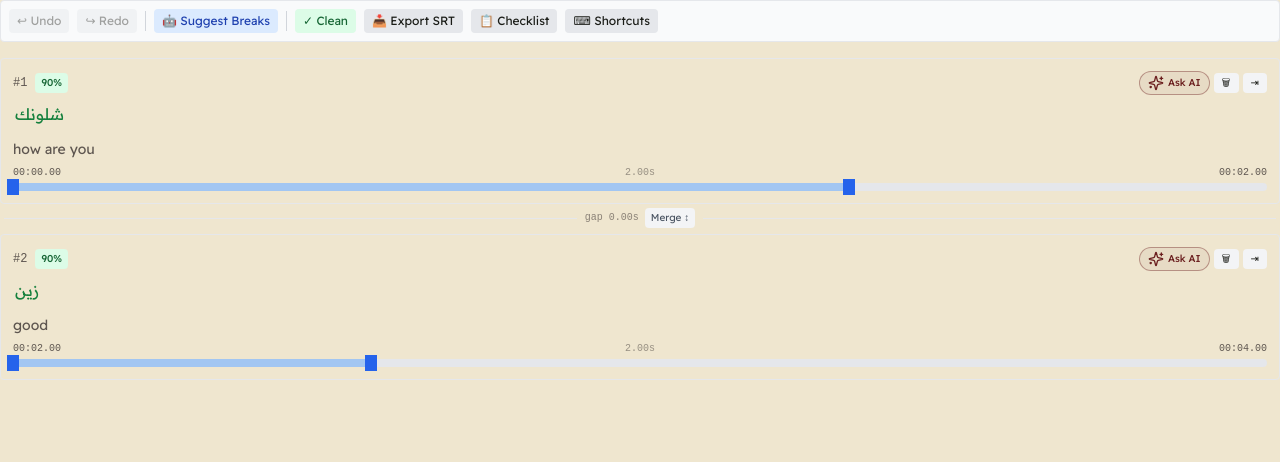
keyboard shortcuts › shows the corrected word on the line as soon as the box closes
This screenshot has width=1280, height=462.
Click the button "شلونك" at (40, 114), box [13,104,66,124]
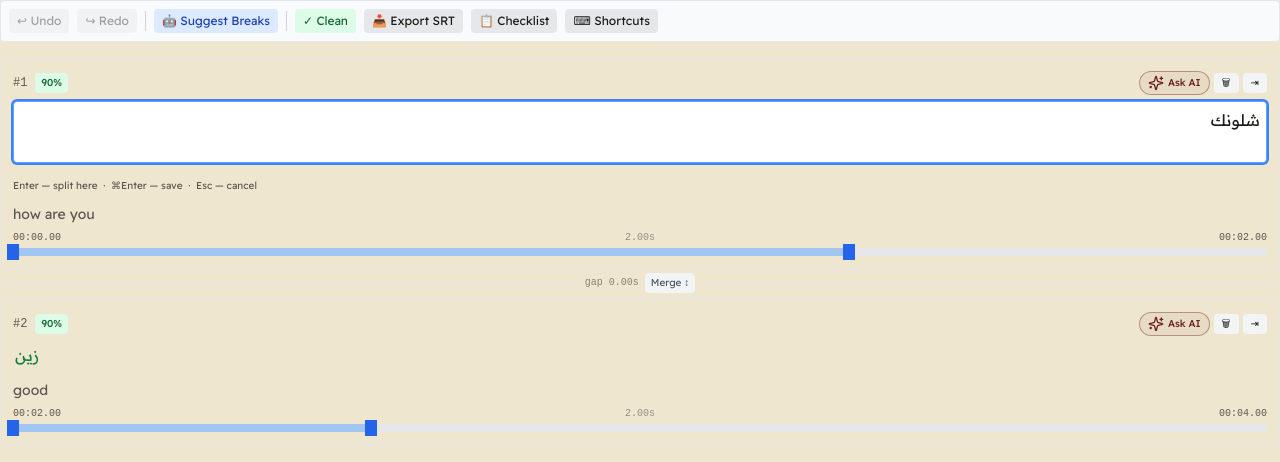
Replace the text in the text box with "شلونكم" at (640, 132), box [13,101,1267,163]
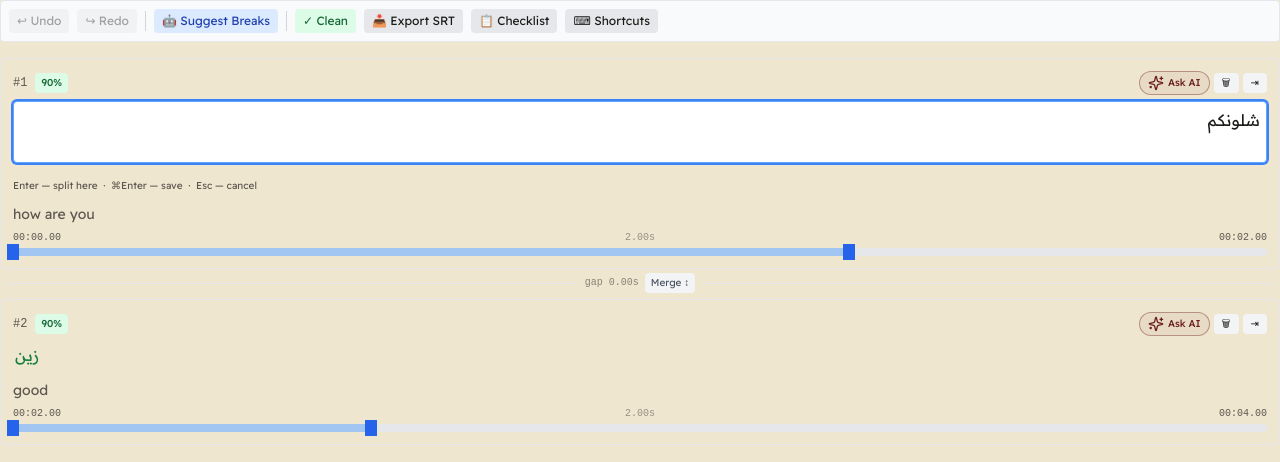
Leave the text box, box [13,101,1267,163]
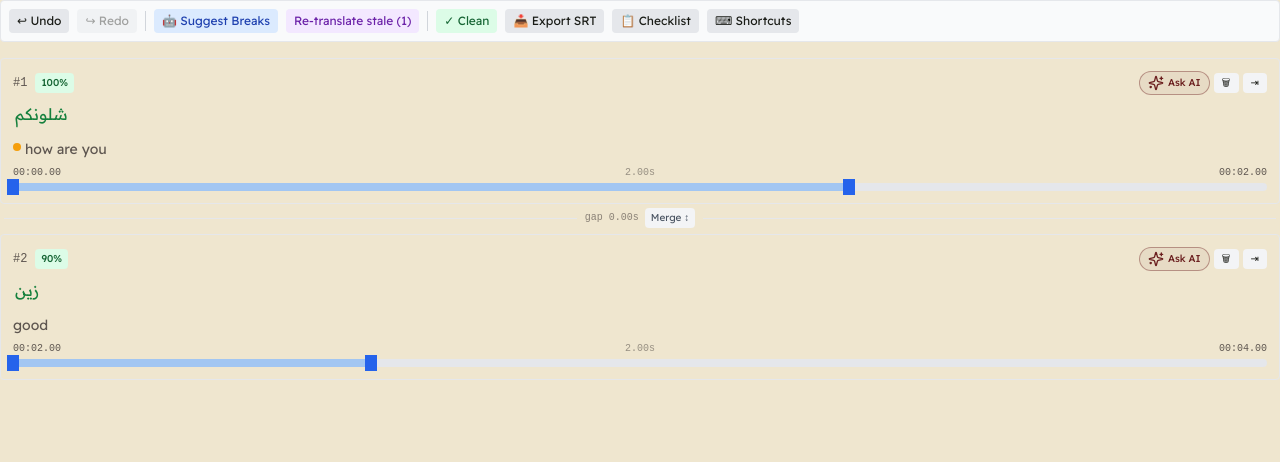
Result: the button "شلونكم" is shown at [13,104,70,124]
